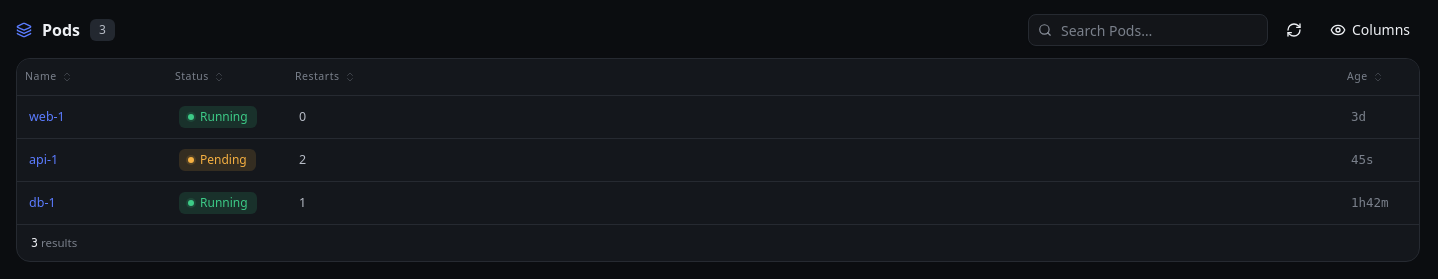
Test: ResourceListPage › hides a column from the Columns menu and stops searching it
Expected: the table with test id "list" is shown, [17, 59, 1419, 224]
Click the button "Columns". click: coordinates (1370, 30)
box: [1320, 14, 1420, 46]
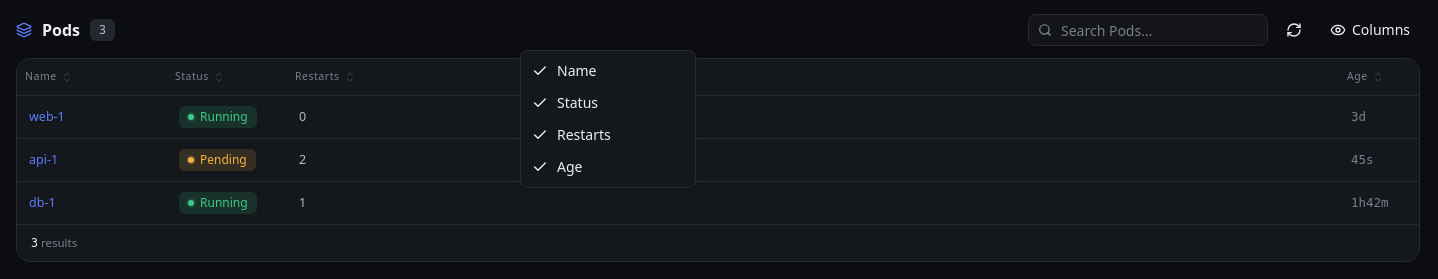
Click the menu item "Status". click: coordinates (565, 102)
box: [532, 93, 598, 112]
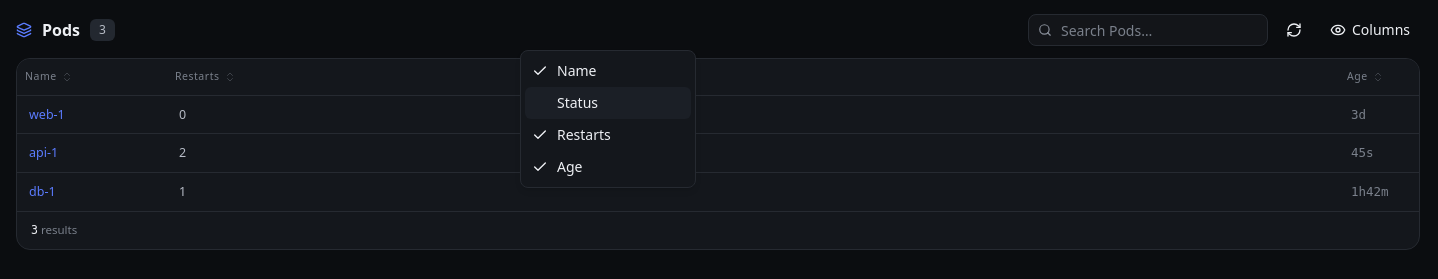
Press Escape
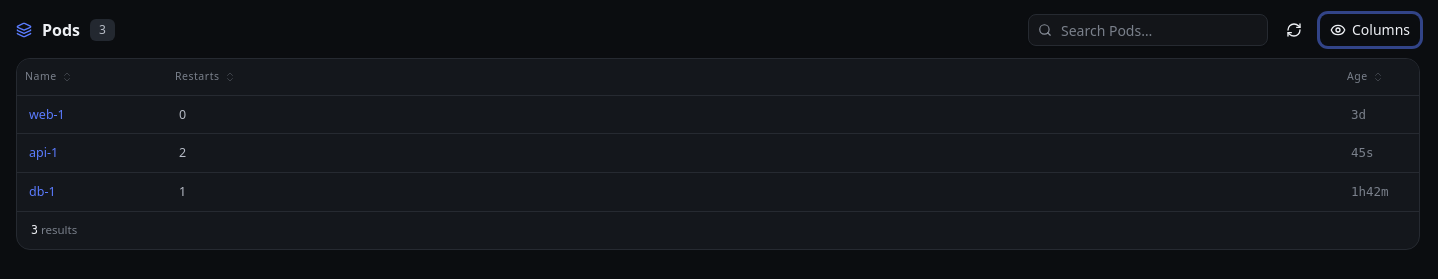
Type "Running" into the field. click: coordinates (1148, 30)
box: [1028, 14, 1268, 46]
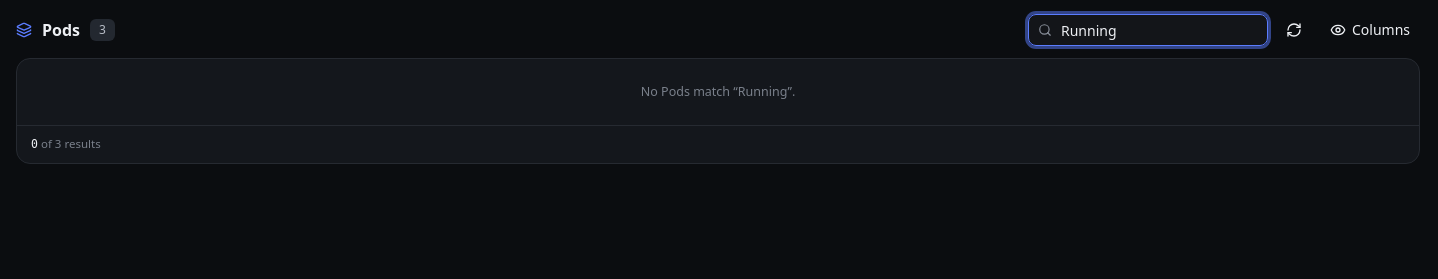
Expected: the text "No Pods match “Running”." is shown, [641, 83, 795, 100]
